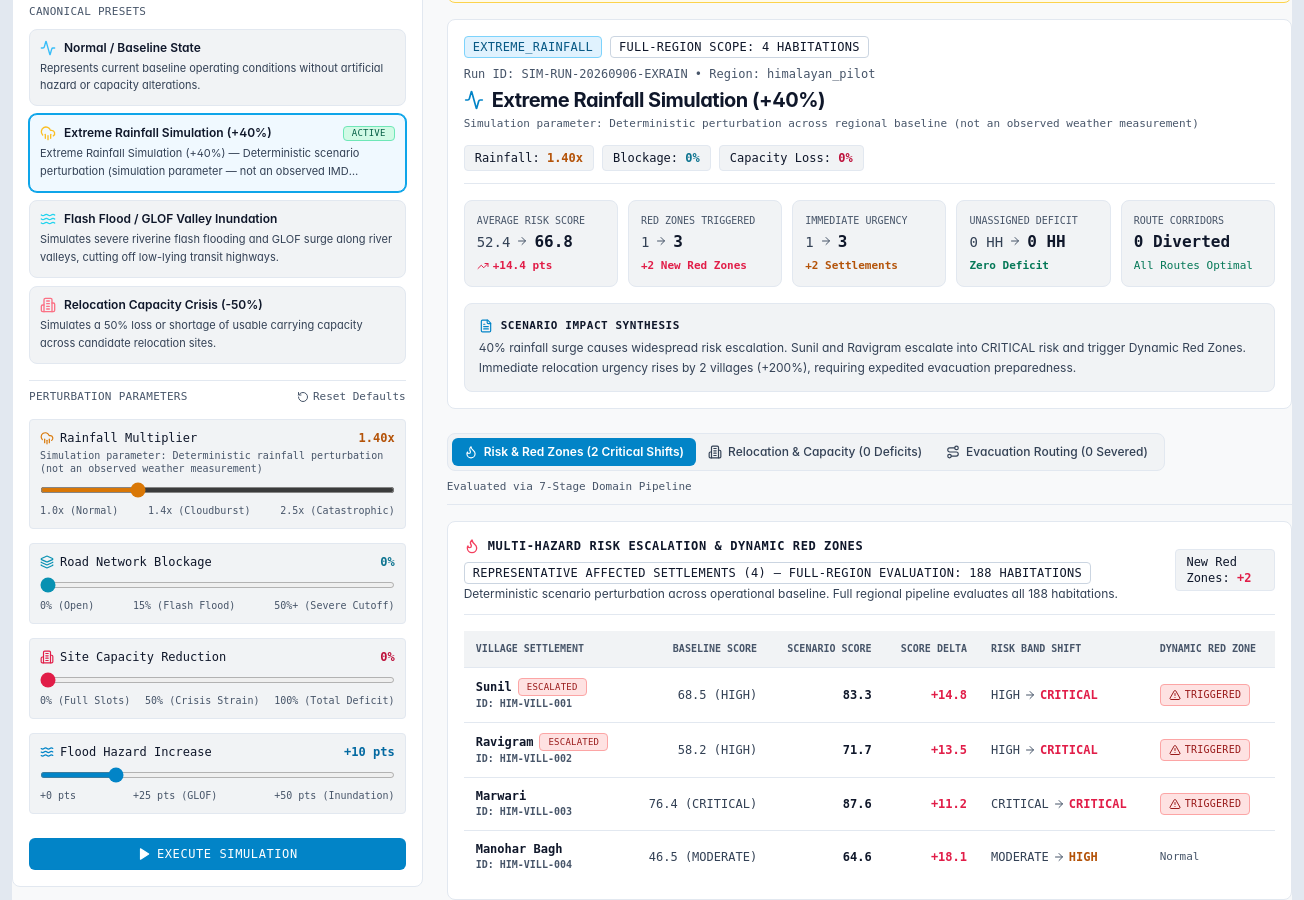
Test: Scenario Simulator UI Suite (Chunk M6-04) › Error State Handling › displays error banner when simulation execution fails
The image size is (1304, 900).
(page scrolled)
Click the button "Execute Simulation" at (217, 854), box x1=29 y1=838 x2=406 y2=870
(page scrolled)
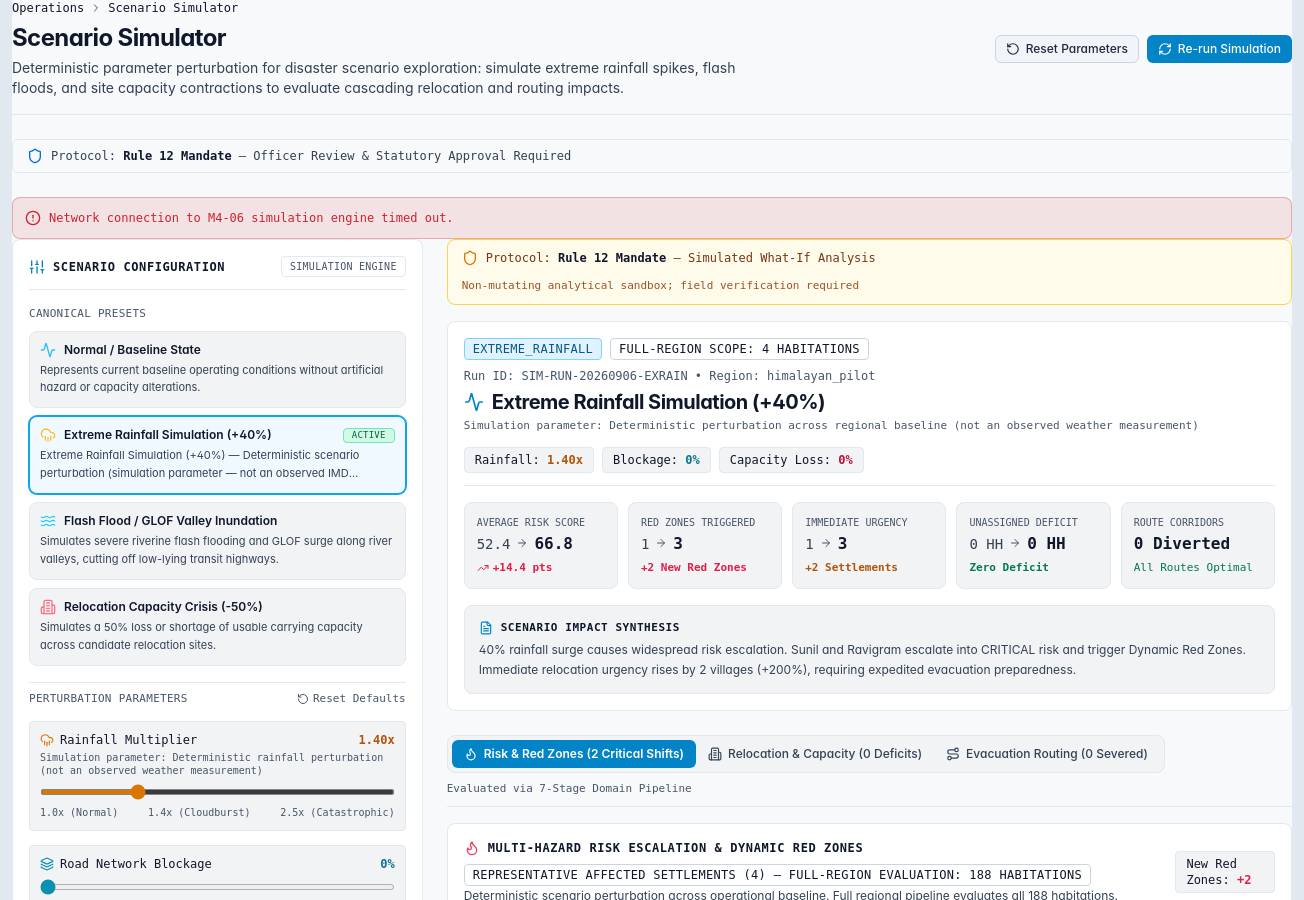
Check: the text "Network connection to M4-06 simulation engine timed out." is shown, box x1=49 y1=210 x2=454 y2=226
